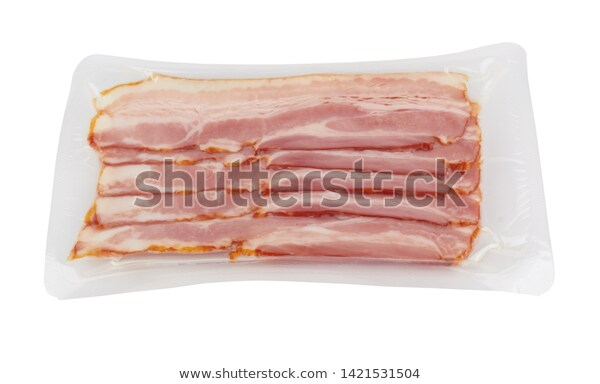bacon: (76, 74, 487, 272)
